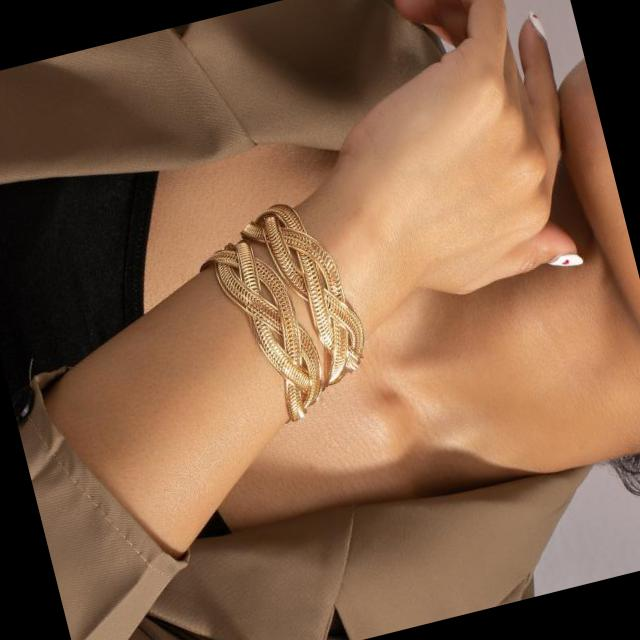Nail: (546, 252, 581, 266), (528, 11, 544, 37)
